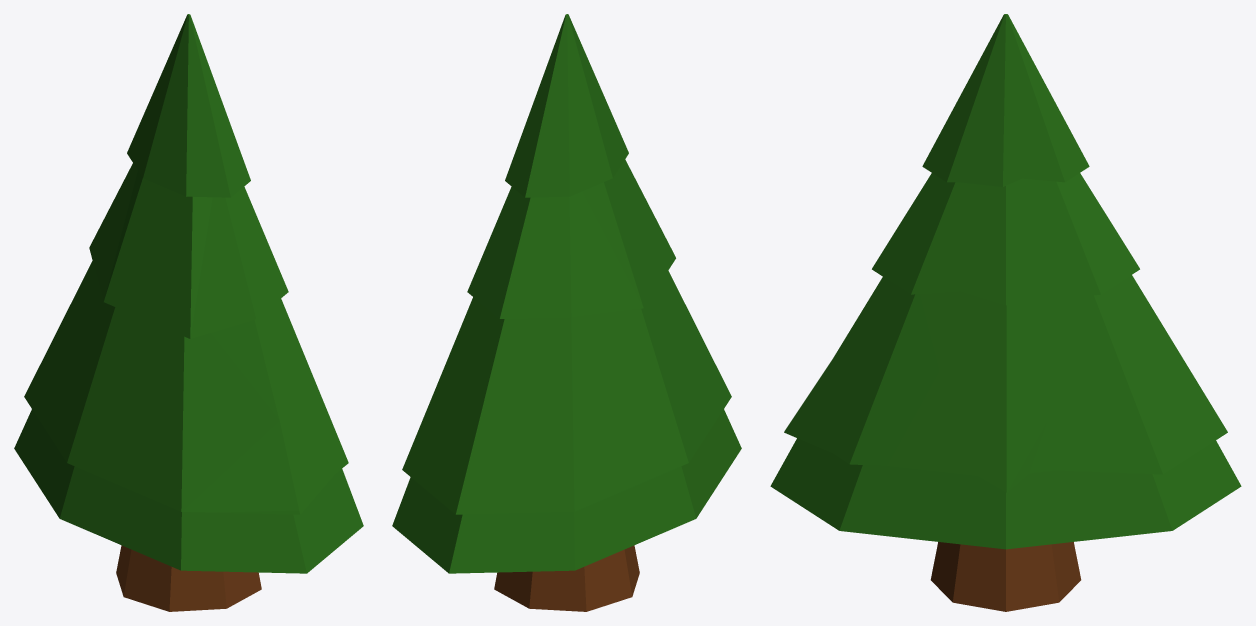
The model's file is Tree2c.fbx.
3 views of the same model, side by side, from view 1: azimuth 30°, elevation 25°; view 2: azimuth 150°, elevation 25°; view 3: azimuth 270°, elevation 25° (orthographic).
Visible parts, largest first — view 1: Cylinder.016, Cylinder.017, Cylinder.015, Cylinder.018, Cylinder.009; view 2: Cylinder.016, Cylinder.017, Cylinder.015, Cylinder.018, Cylinder.009; view 3: Cylinder.016, Cylinder.015, Cylinder.017, Cylinder.018, Cylinder.009.
Part boxes in pixels (left/top/right/bottom): Cylinder.016: left=24, top=261, right=348, bottom=514; Cylinder.017: left=89, top=163, right=288, bottom=338; Cylinder.015: left=14, top=409, right=363, bottom=573; Cylinder.018: left=127, top=14, right=250, bottom=197; Cylinder.009: left=116, top=545, right=261, bottom=611; Cylinder.016: left=402, top=270, right=731, bottom=514; Cylinder.017: left=467, top=159, right=675, bottom=318; Cylinder.015: left=392, top=409, right=741, bottom=573; Cylinder.018: left=505, top=14, right=628, bottom=197; Cylinder.009: left=494, top=545, right=639, bottom=611; Cylinder.016: left=784, top=275, right=1227, bottom=492; Cylinder.015: left=770, top=438, right=1241, bottom=549; Cylinder.017: left=872, top=173, right=1139, bottom=305; Cylinder.018: left=922, top=14, right=1089, bottom=186; Cylinder.009: left=930, top=542, right=1081, bottom=611.
Size of the model in its own units: 396 by 828 by 625.
